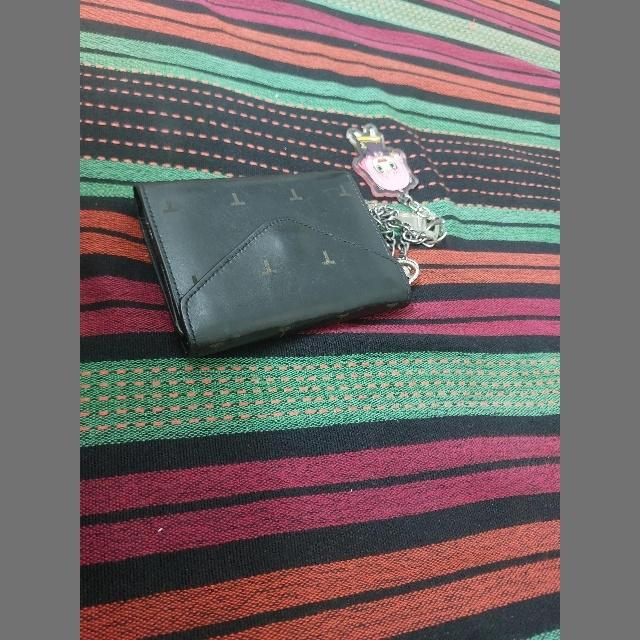Wallet: (131, 168, 413, 356)
